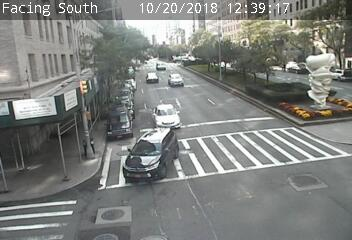car: (122, 128, 180, 181), (153, 106, 181, 128), (169, 73, 185, 86), (146, 72, 160, 84), (156, 62, 167, 70)
